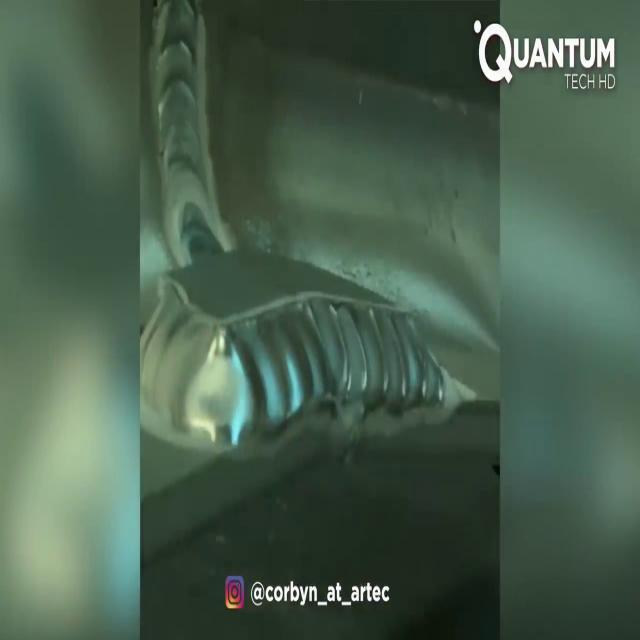Good Weld: (156, 286, 441, 428)
